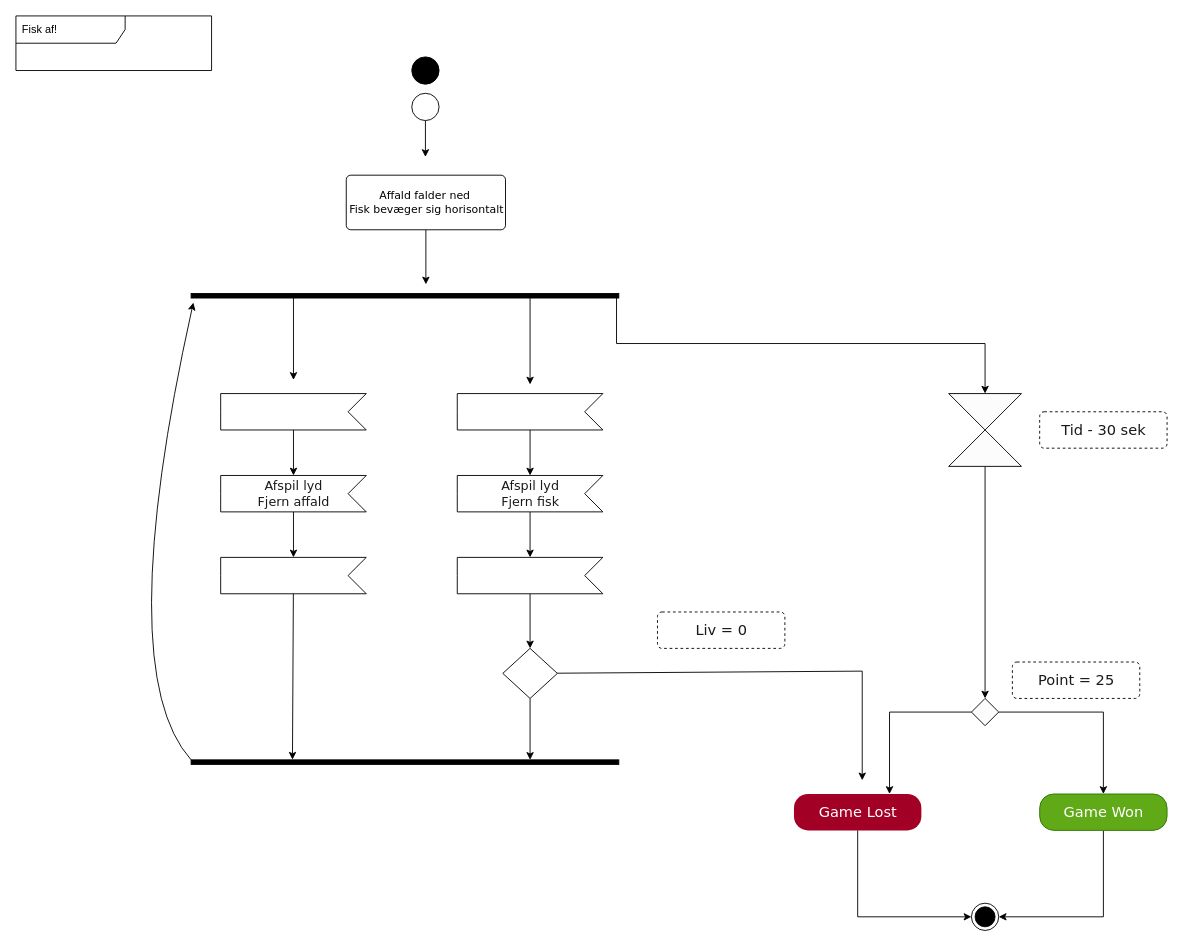
Some shapes in this 1183 by 946 pixel diagram are drawn without their labels. Each missing label, with the box of its shape:
Fjern 1 liv: (456, 556, 603, 594)
Klik på Affald: (220, 393, 366, 430)
Klik på fisk: (456, 393, 603, 430)
Tilføj 1 point: (220, 556, 366, 594)
